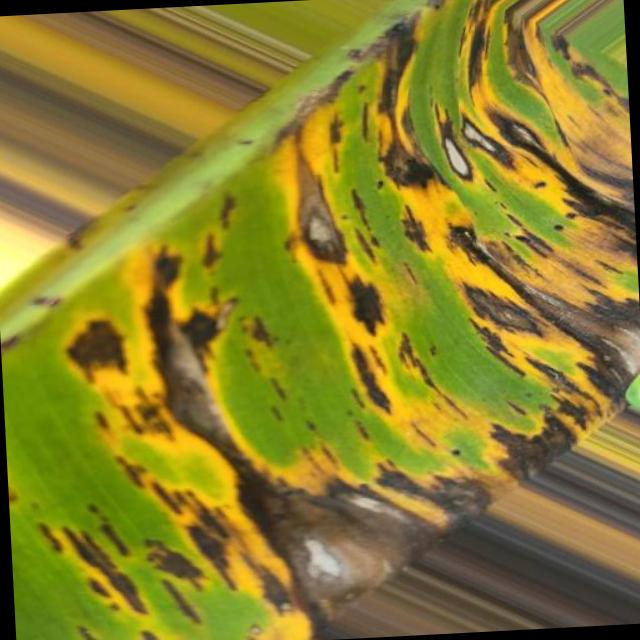Banana_Black_Sigatoka: (40, 261, 448, 640), (322, 43, 640, 474)
